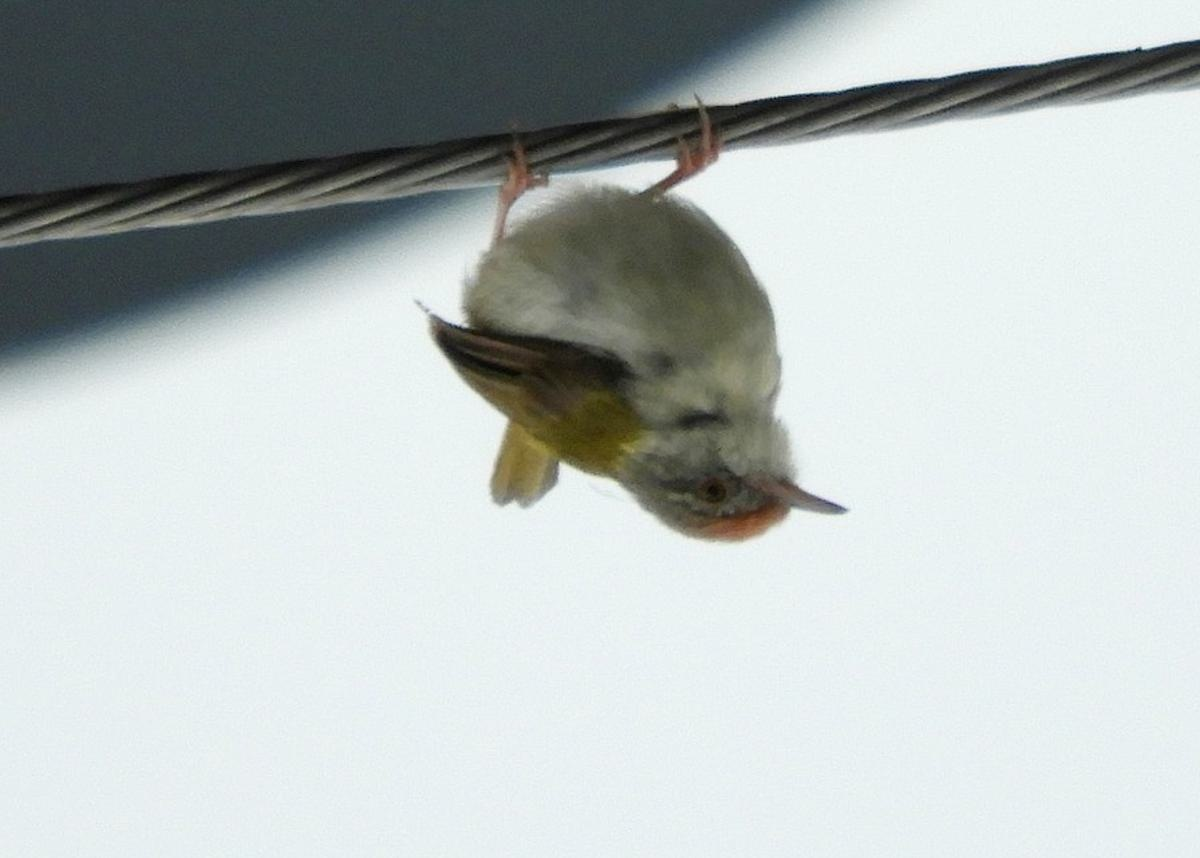tailorbird: (377, 112, 880, 581)
